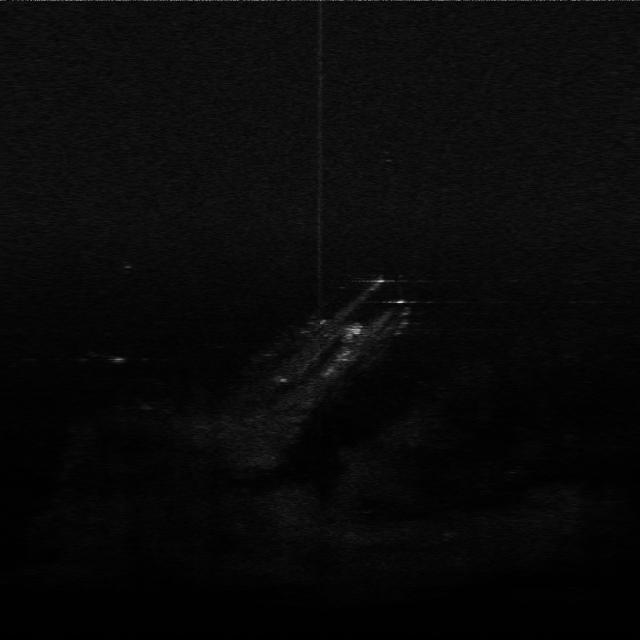rov: (342, 322, 371, 339)
